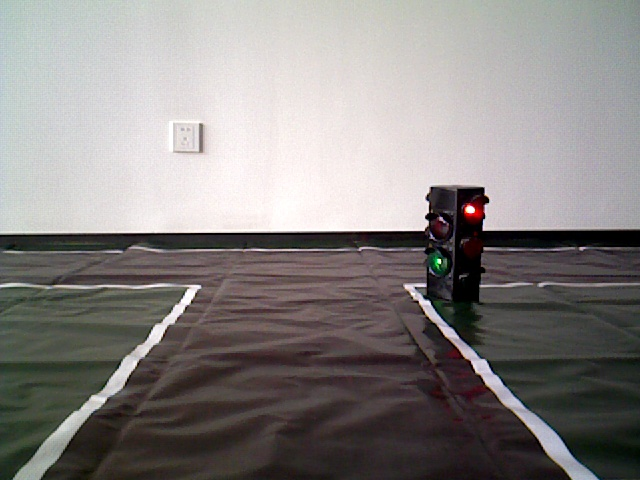red: (429, 188, 482, 295)
